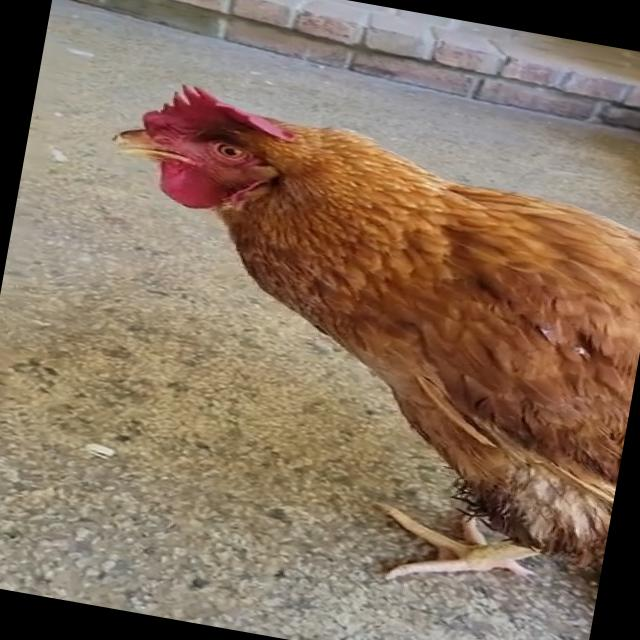Breathing: (44, 70, 640, 620)
